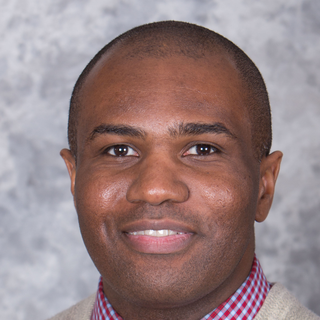eye: (174, 136, 228, 164), (96, 139, 147, 166)
